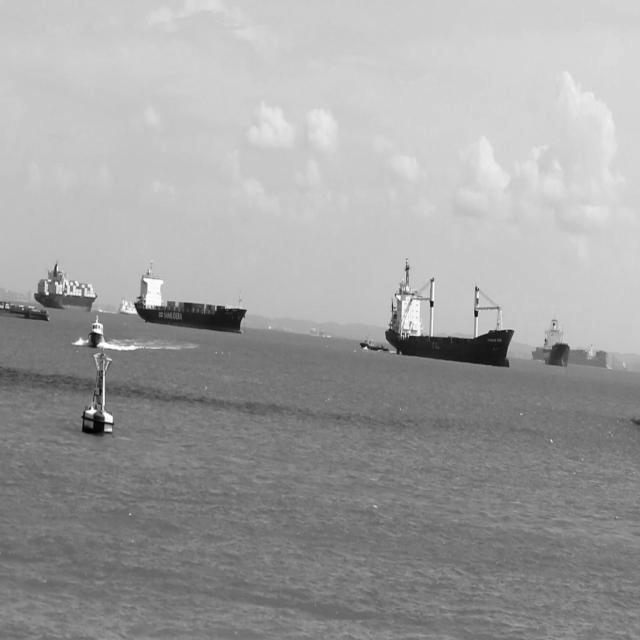buoy: (80, 350, 116, 435)
ship: (384, 256, 516, 370), (134, 262, 248, 336), (33, 258, 98, 314), (530, 343, 608, 369), (542, 314, 571, 369), (0, 299, 49, 323), (88, 314, 106, 348), (360, 334, 390, 354), (119, 298, 138, 316)
